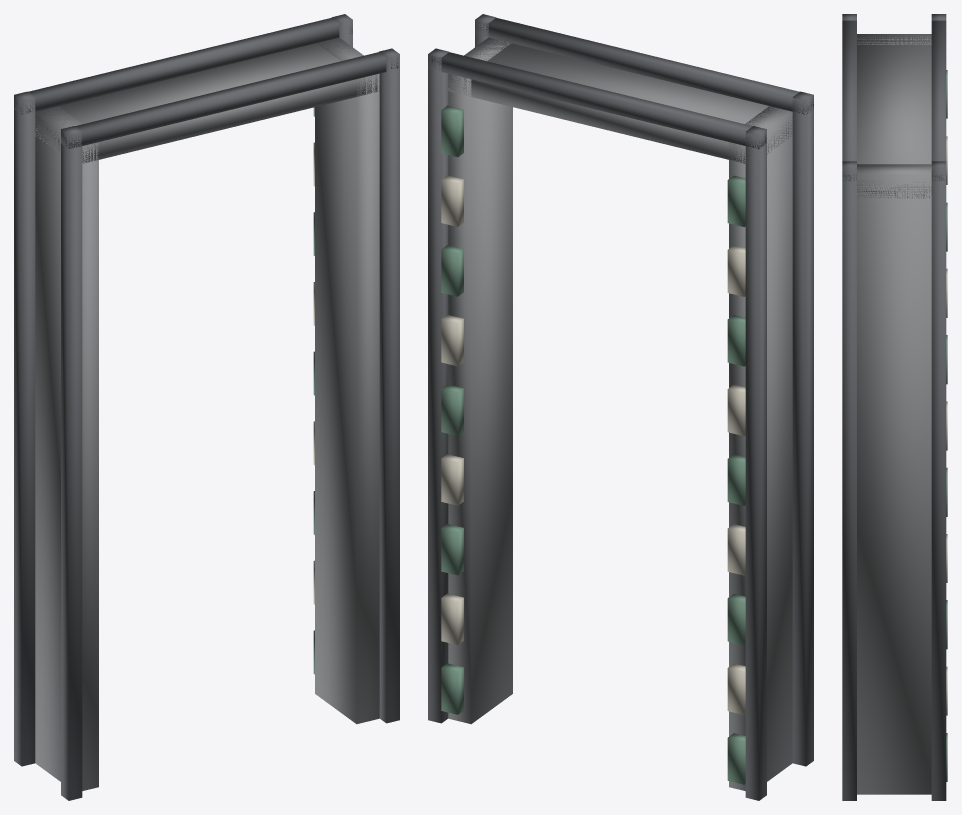
Rendered from doorway_tile_return_w86_h200_d24.glb.
3 renders of one model, left to right at view 1: azimuth 30°, elevation 25°; view 2: azimuth 150°, elevation 25°; view 3: azimuth 270°, elevation 25°, orthographic. The views are drawn at different scales.
Parts seen in each view (by area): view 1: world; view 2: world; view 3: world.
Part boxes in pixels (left/top/right/bottom): world: left=14, top=14, right=399, bottom=800; world: left=428, top=14, right=813, bottom=800; world: left=842, top=14, right=947, bottom=800.
Size of the model in its own units: 1.1 by 2.12 by 0.3207.
